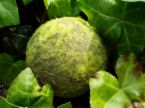tennis ball: (25, 16, 110, 96)
